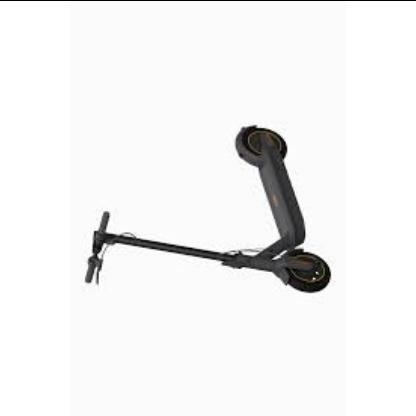bike: (84, 126, 332, 294)
